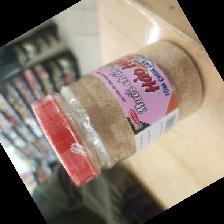Hao_hao: (31, 38, 203, 188)
